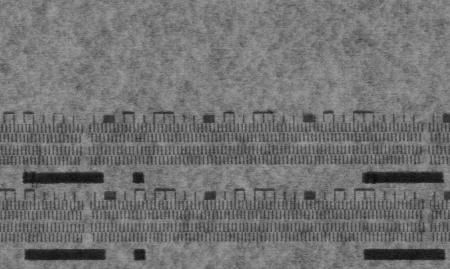Oblique printing: (35, 145, 48, 157)
